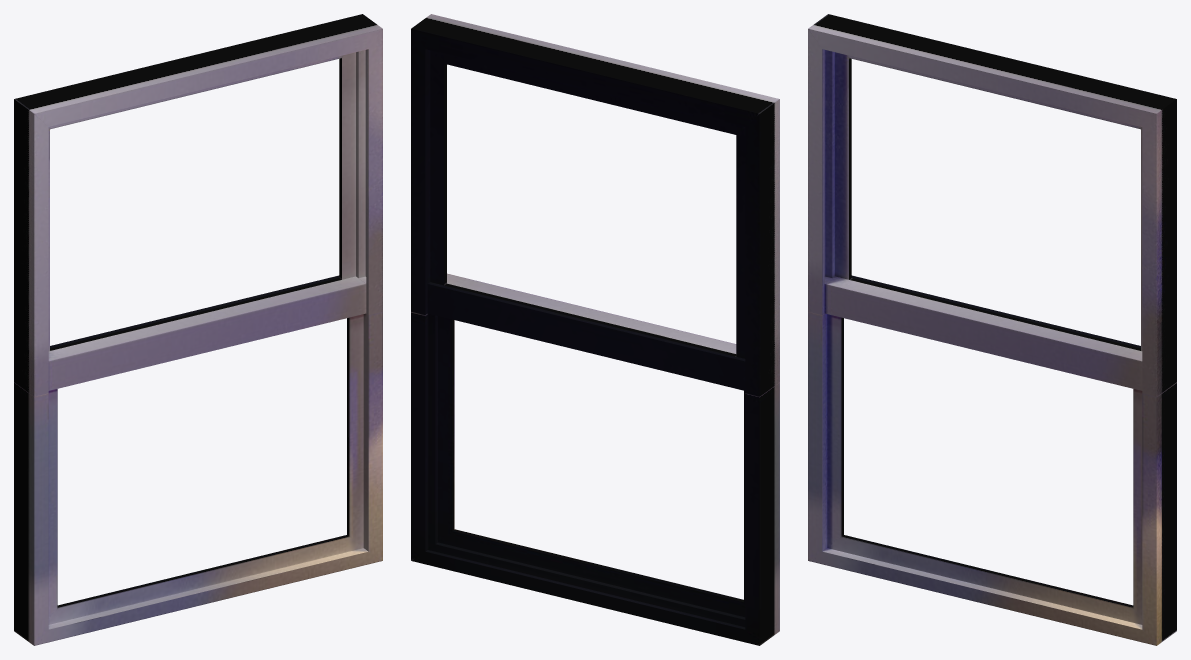
Rendered from window_right.glb.
The picture shows the model from 3 angles, left to right: view 1: azimuth 30°, elevation 25°; view 2: azimuth 150°, elevation 25°; view 3: azimuth 330°, elevation 25°; orthographic projection.
Visible parts, largest first — view 1: window_right; view 2: window_right; view 3: window_right.
Boxes of the visible parts, x1,y1,x2,y2 form: window_right: [14, 14, 382, 645]; window_right: [411, 14, 779, 645]; window_right: [808, 14, 1176, 645].
Bounding box in the file's own units: 7.2 × 10.5 × 0.72.
1 material, 1 textured.
